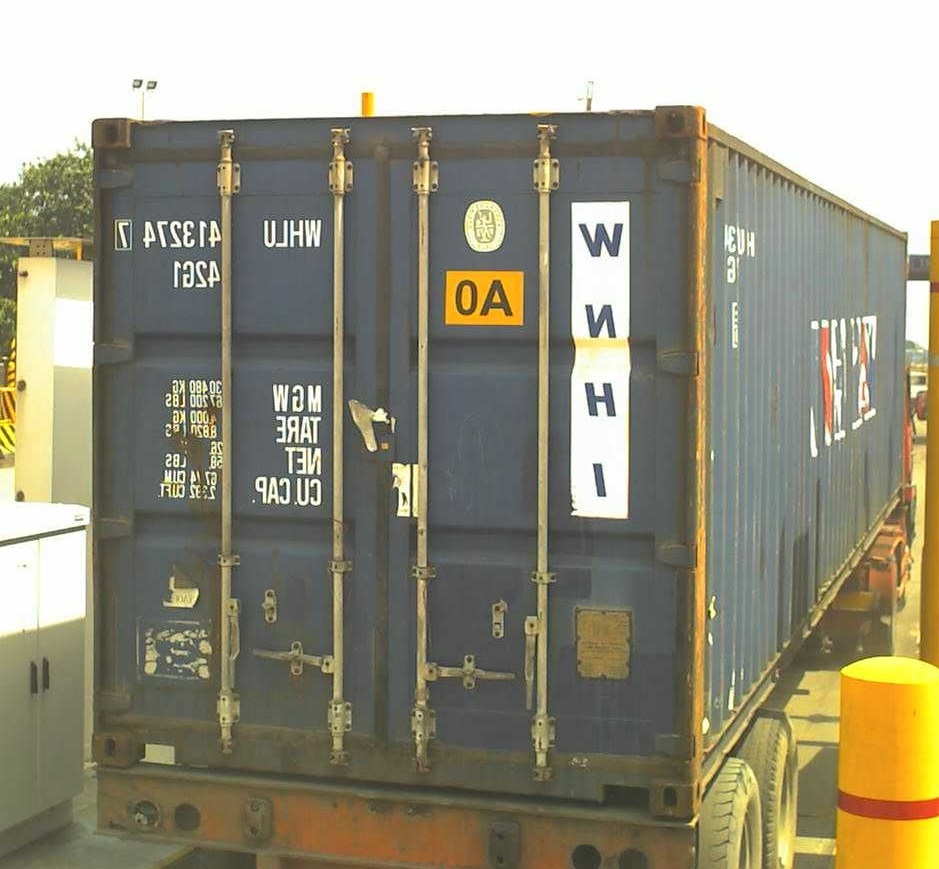container_door: (85, 113, 697, 813)
